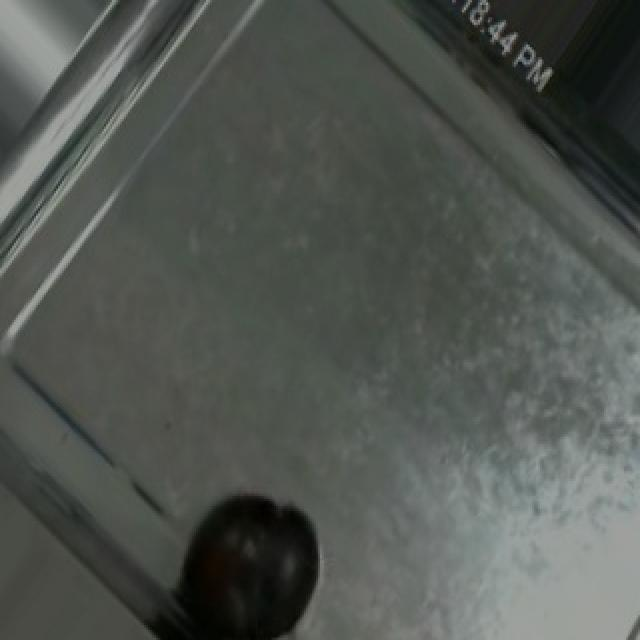Fruit: (166, 479, 340, 640)
